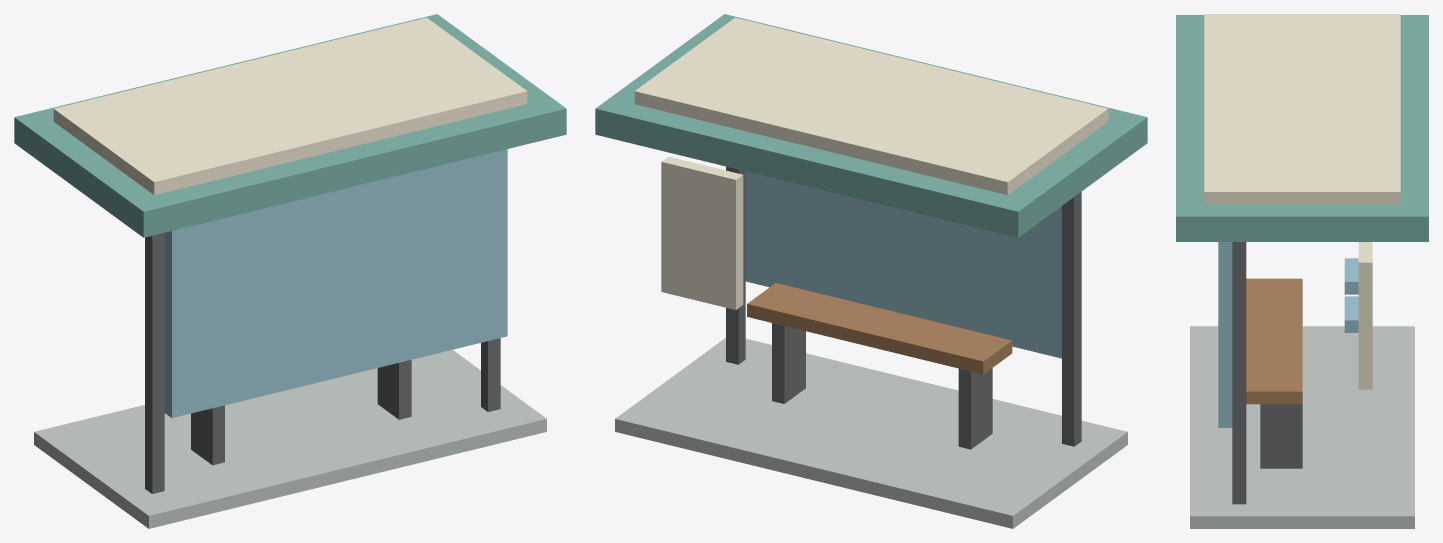
File: pocket-borough-tram-shelter__278.glb
3 views of the same model, side by side, from view 1: azimuth 30°, elevation 25°; view 2: azimuth 150°, elevation 25°; view 3: azimuth 270°, elevation 25° (orthographic). The views are drawn at different scales.
Visible parts, largest first — view 1: pocket-borough-tram-stop; view 2: pocket-borough-tram-stop; view 3: pocket-borough-tram-stop.
Part boxes in pixels (left/top/right/bottom): pocket-borough-tram-stop: left=14, top=14, right=566, bottom=528; pocket-borough-tram-stop: left=595, top=14, right=1147, bottom=528; pocket-borough-tram-stop: left=1176, top=14, right=1428, bottom=528.
Bounding box in the file's own units: 4.25 × 3.25 × 2.25.
